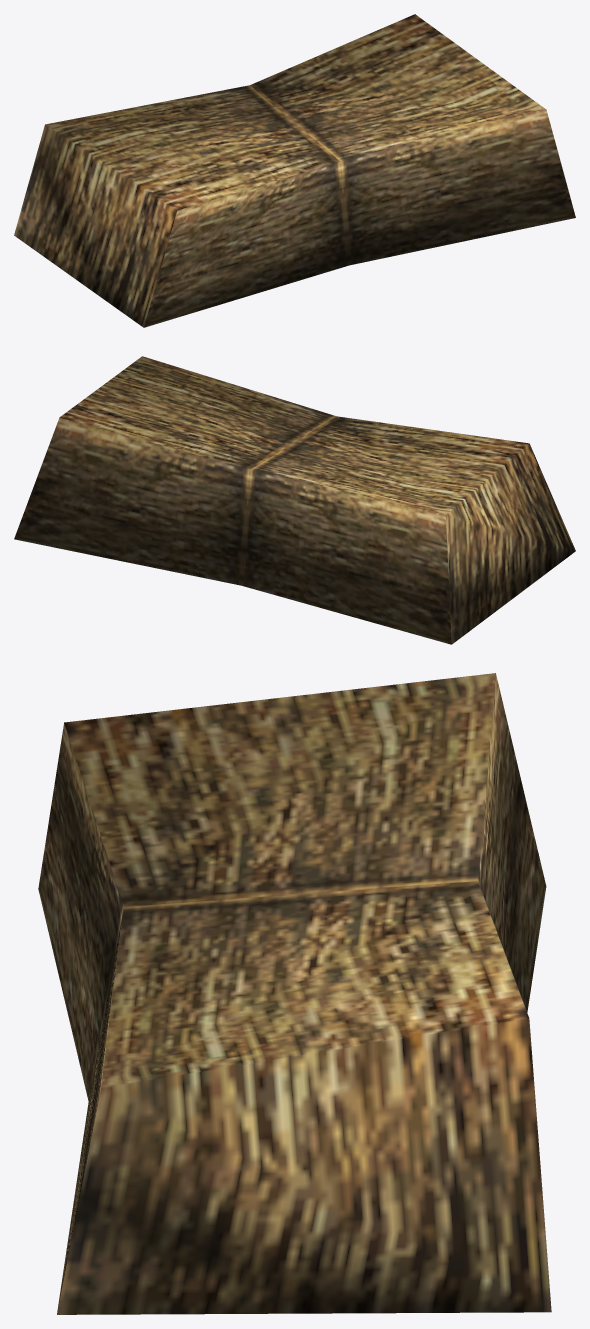
File: hay_01.fbx
3 views of the same model, one above another, from view 1: azimuth 30°, elevation 25°; view 2: azimuth 150°, elevation 25°; view 3: azimuth 270°, elevation 25° (orthographic). The views are drawn at different scales.
Visible parts, largest first — view 1: Hay_01; view 2: Hay_01; view 3: Hay_01.
Part boxes in pixels (bbox=[...]): Hay_01: bbox=[14, 14, 575, 327]; Hay_01: bbox=[14, 356, 575, 644]; Hay_01: bbox=[38, 673, 551, 1314].
Bounding box in the file's own units: 1.55 × 0.7843 × 0.43.
